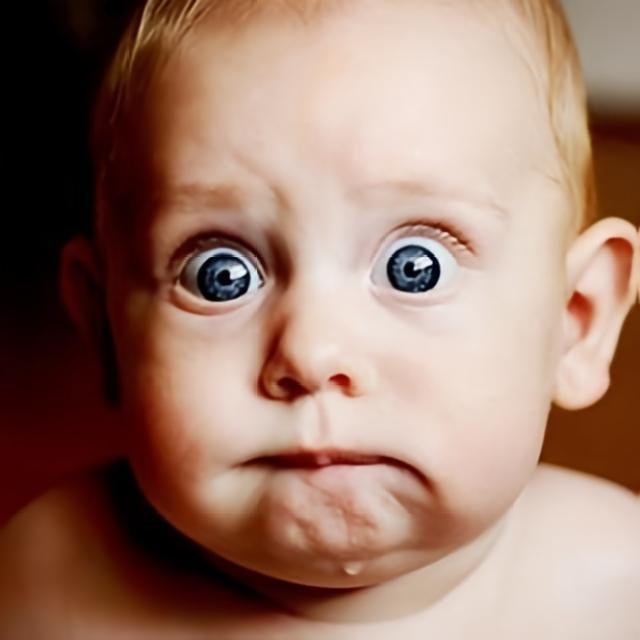fear: (90, 2, 568, 590)
